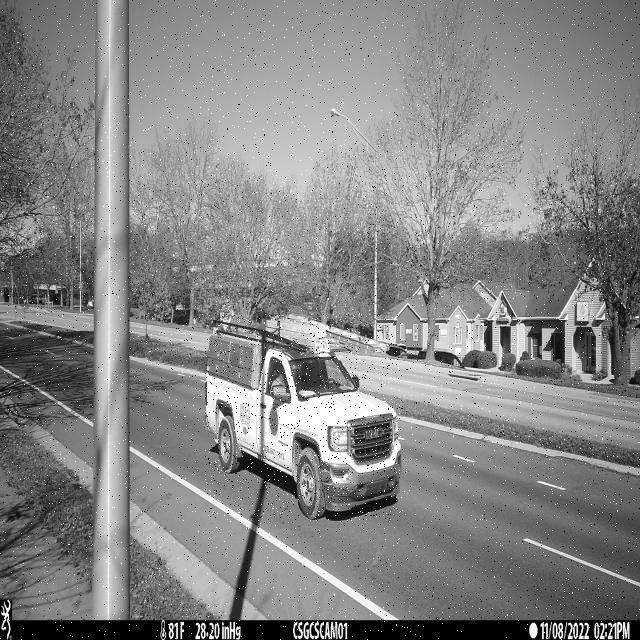Pickup- Utility: (205, 314, 402, 521)
